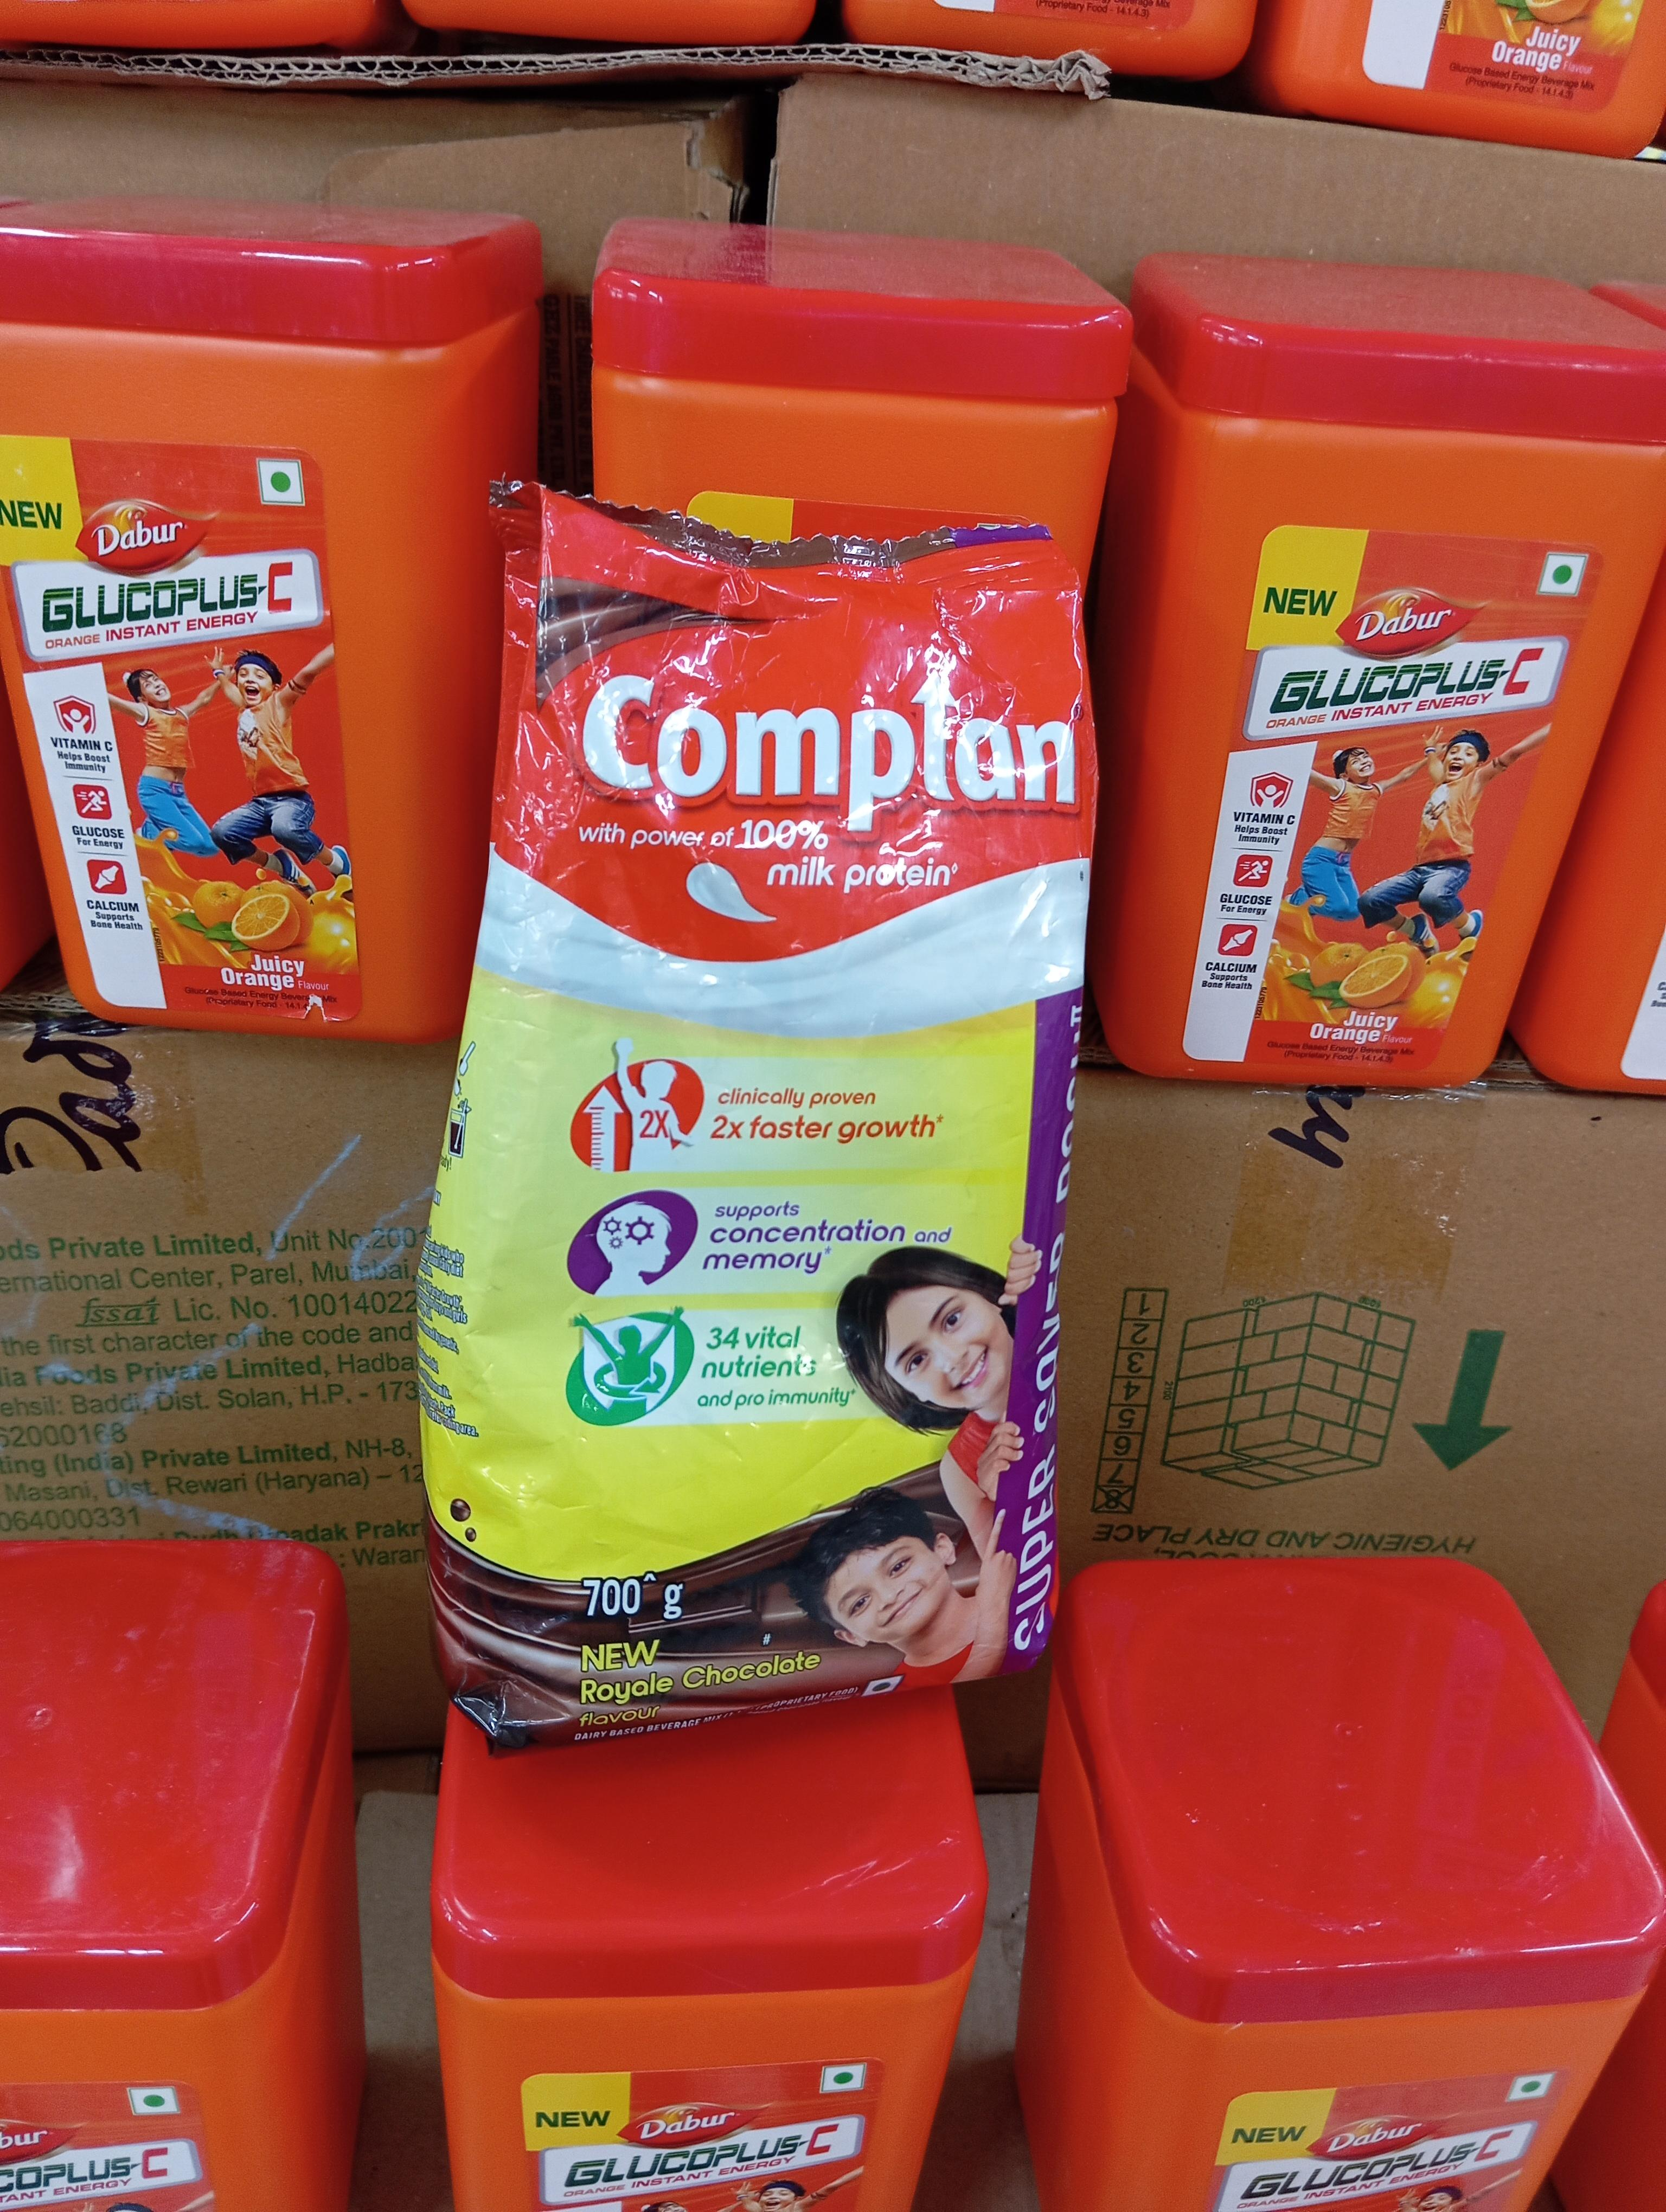COMPLAN_RC_POUCH_700_GMS_12: (457, 491, 1071, 1691)
